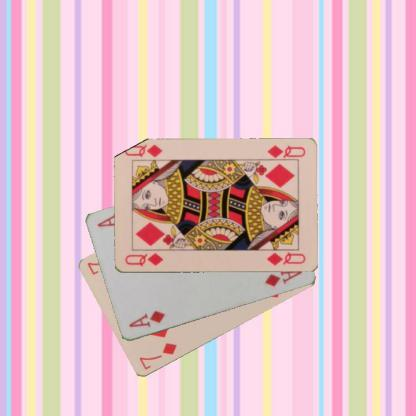7d: (136, 340, 178, 372)
Ad: (126, 308, 166, 329)
Qd: (262, 143, 306, 162), (123, 251, 164, 268)
